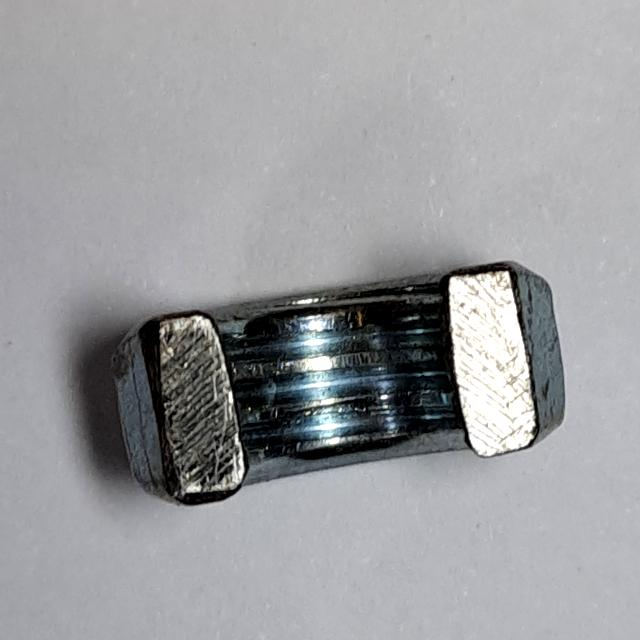Side-Fracture: (100, 248, 581, 523)
